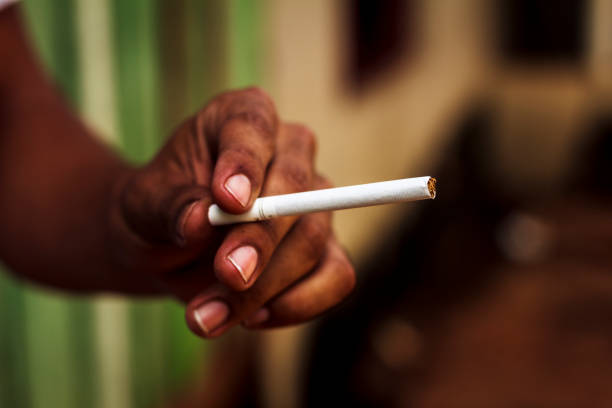cigarette: (206, 174, 438, 224)
